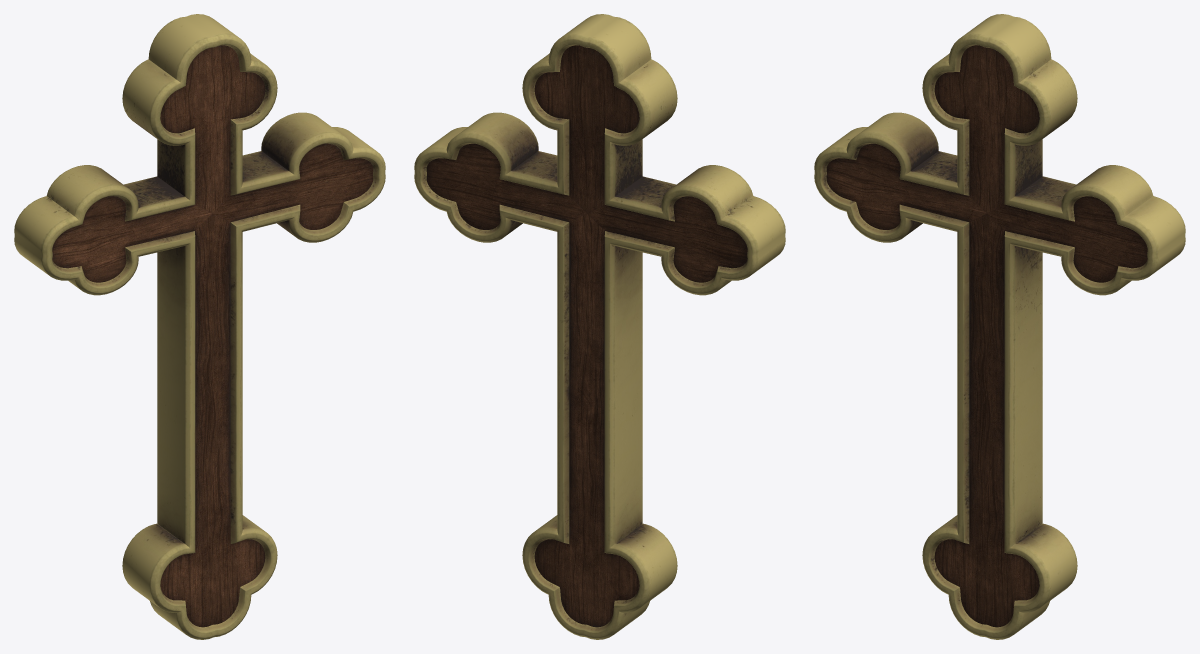
The model's file is holy_cross_game_ready_asset.glb.
3 renders of one model, left to right at view 1: azimuth 30°, elevation 25°; view 2: azimuth 150°, elevation 25°; view 3: azimuth 330°, elevation 25°, orthographic.
Parts seen in each view (by area): view 1: Relic2; view 2: Relic2; view 3: Relic2.
Boxes of the visible parts, bbox=[...] form: Relic2: bbox=[14, 14, 385, 639]; Relic2: bbox=[414, 14, 785, 639]; Relic2: bbox=[814, 14, 1185, 639].
Bounding box in the file's own units: 22.7 × 37.97 × 3.64.
1 material, 1 textured.
